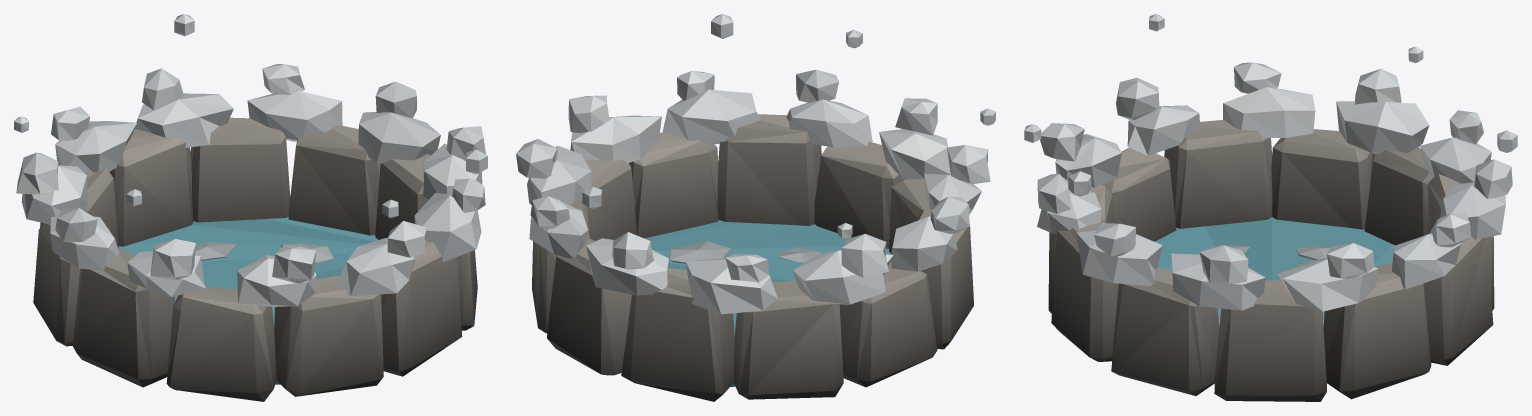
The model's file is seawall.glb.
The picture shows the model from 3 angles, left to right: view 1: azimuth 30°, elevation 25°; view 2: azimuth 150°, elevation 25°; view 3: azimuth 270°, elevation 25°; orthographic projection.
Visible parts, largest first — view 1: seawall; view 2: seawall; view 3: seawall.
Part boxes in pixels (bbox=[...]): seawall: bbox=[14, 14, 487, 401]; seawall: bbox=[516, 14, 995, 401]; seawall: bbox=[1024, 14, 1517, 401].
Bounding box in the file's own units: 1.3 × 0.6289 × 1.34.
